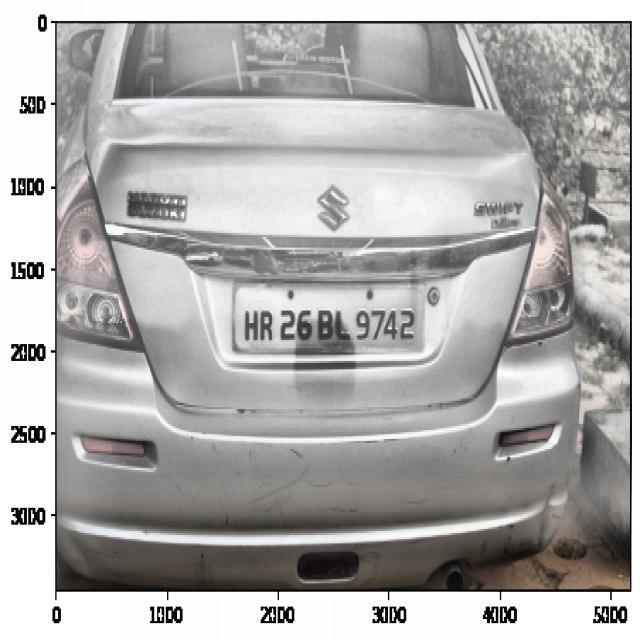license_plate: (238, 293, 424, 360)
